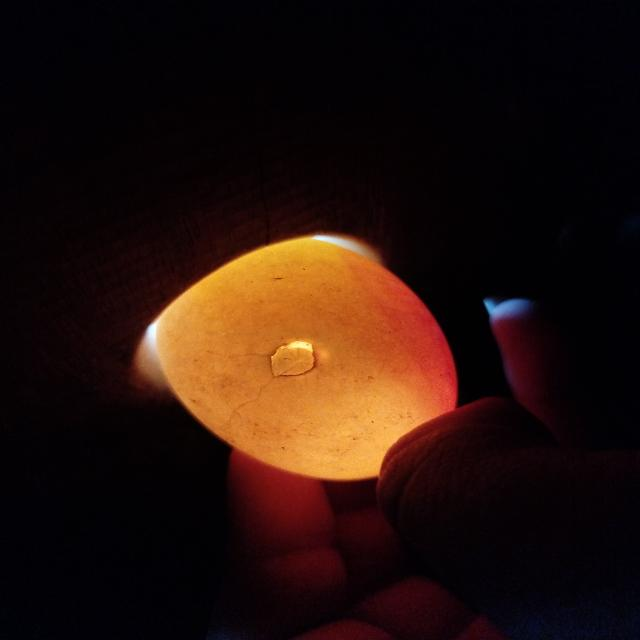Gema Quebrada: (346, 248, 458, 416)
Rachadura: (271, 340, 314, 377)
